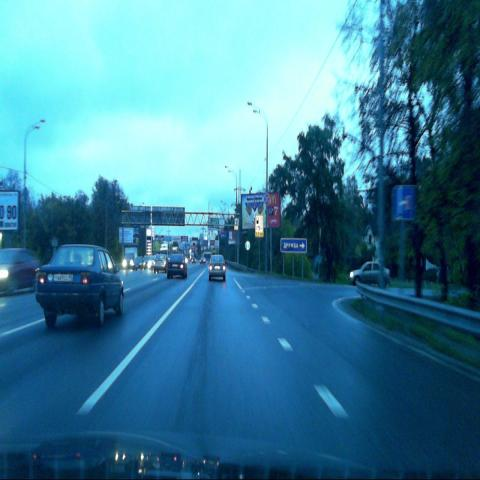6_8_2: (392, 185, 415, 220)
